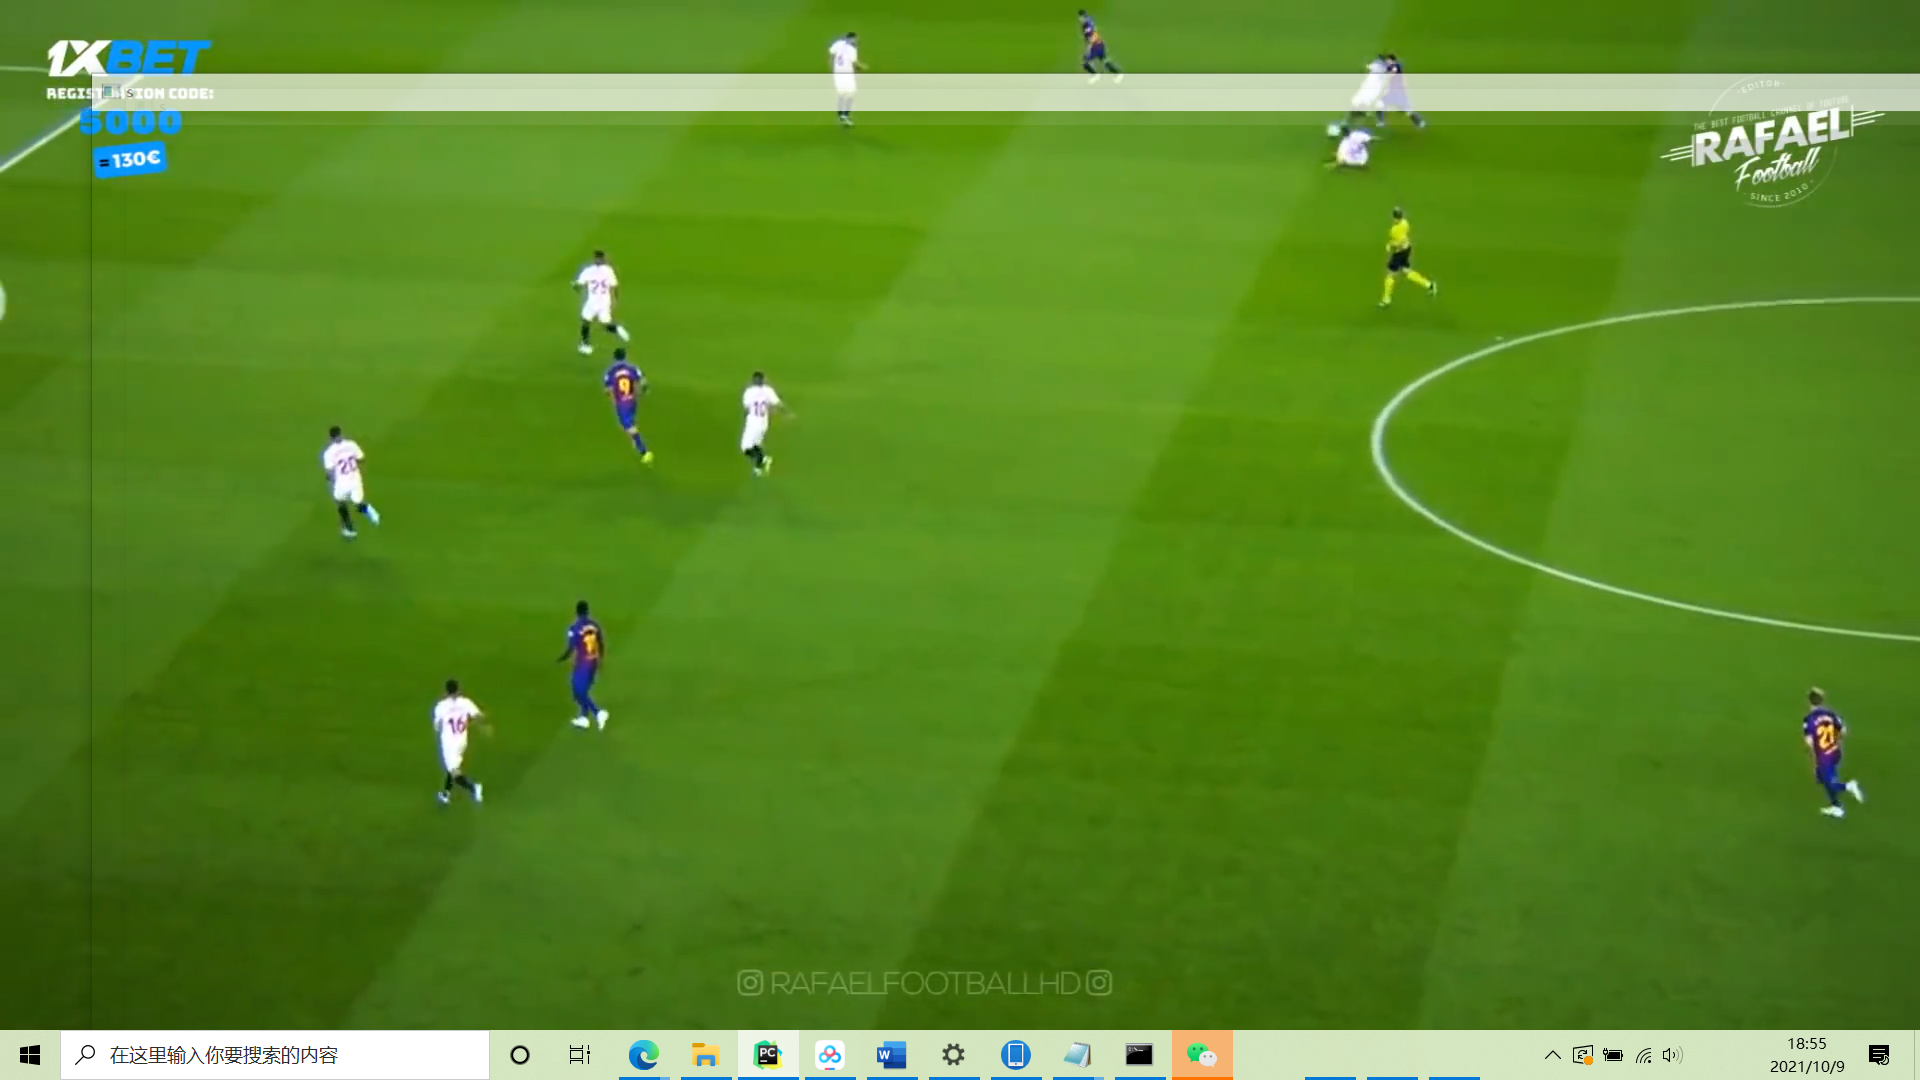ft: (1323, 123, 1341, 140)
